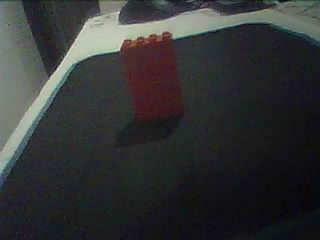lego: (119, 30, 184, 123)
